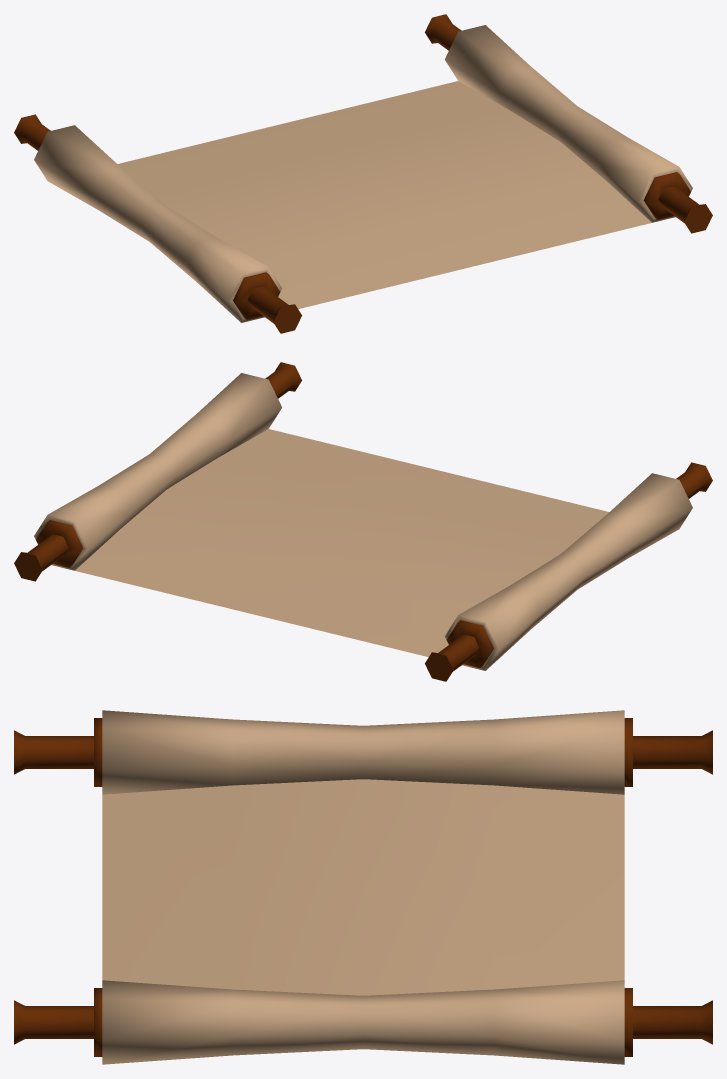
File: SM_Map_Double_Open.fbx
The picture shows the model from 3 angles, top to bottom: view 1: azimuth 30°, elevation 25°; view 2: azimuth 150°, elevation 25°; view 3: azimuth 270°, elevation 25°; orthographic projection. The views are drawn at different scales.
Visible parts, largest first — view 1: Map_open_double; view 2: Map_open_double; view 3: Map_open_double.
Boxes of the visible parts, x1,y1,x2,y2 form: Map_open_double: (14,14,712,333); Map_open_double: (14,362,712,681); Map_open_double: (14,710,712,1064).
Size of the model in its own units: 45.62 by 44.06 by 4.63.
